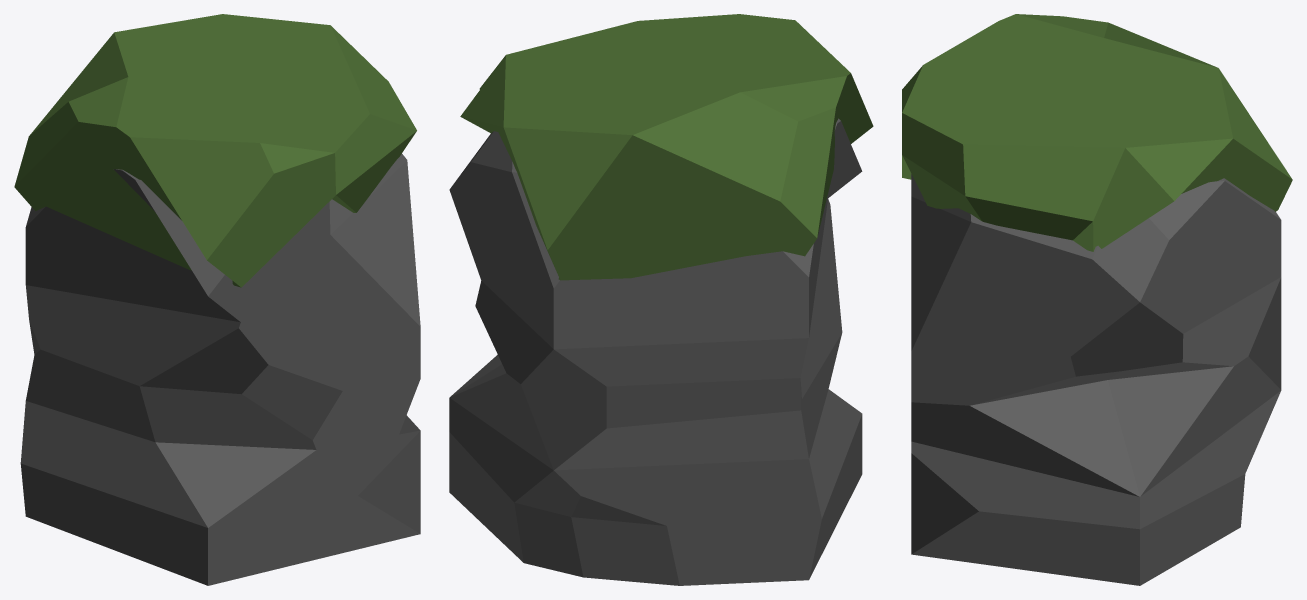
Rendered from Rock_New_1_Mocha_4.fbx.
3 views of the same model, side by side, from view 1: azimuth 30°, elevation 25°; view 2: azimuth 150°, elevation 25°; view 3: azimuth 270°, elevation 25° (orthographic). The views are drawn at different scales.
Parts seen in each view (by area): view 1: Cylinder.002, Cylinder.003; view 2: Cylinder.002, Cylinder.003; view 3: Cylinder.002, Cylinder.003.
Boxes of the visible parts, x1,y1,x2,y2 form: Cylinder.002: [20, 154, 420, 585]; Cylinder.003: [14, 14, 416, 287]; Cylinder.002: [449, 118, 862, 585]; Cylinder.003: [460, 14, 873, 280]; Cylinder.002: [911, 174, 1281, 585]; Cylinder.003: [902, 14, 1292, 251].
Bounding box in the file's own units: 310 × 363 × 303.
